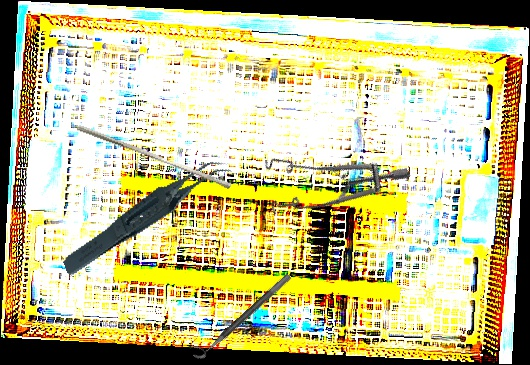Fixation Ring: (187, 265, 292, 363)
Pusher: (74, 124, 234, 190)
Speculum: (246, 98, 412, 250)
Tissue Forceps: (48, 156, 247, 278)
